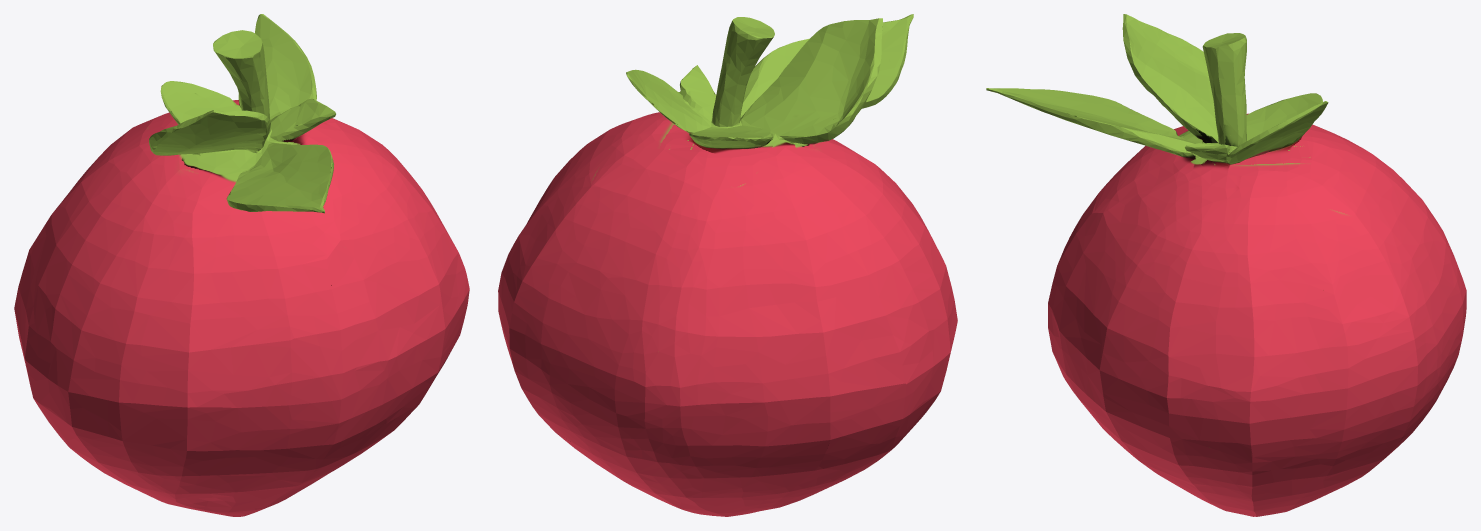
The model's file is tomato.glb.
3 views of the same model, side by side, from view 1: azimuth 30°, elevation 25°; view 2: azimuth 150°, elevation 25°; view 3: azimuth 270°, elevation 25° (orthographic). The views are drawn at different scales.
Parts seen in each view (by area): view 1: world; view 2: world; view 3: world.
Part boxes in pixels (x1=…): world: x1=14, y1=14, x2=469, y2=516; world: x1=498, y1=14, x2=957, y2=516; world: x1=986, y1=14, x2=1466, y2=516.
Size of the model in its own units: 0.5477 by 0.6315 by 0.5802.
Materials: 1 (1 with a texture image).
